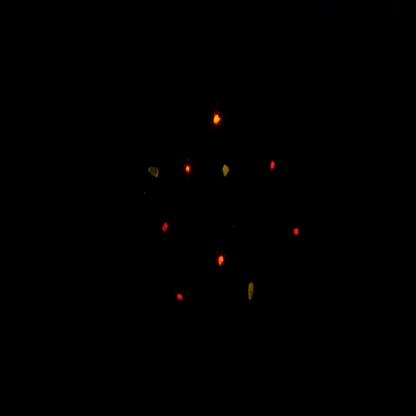PET: (282, 201, 314, 264), (171, 285, 188, 314), (268, 151, 280, 180), (162, 215, 171, 241)
PP: (148, 156, 165, 191), (246, 274, 257, 311), (221, 157, 234, 187)
PVC: (216, 244, 230, 280), (181, 157, 198, 184), (212, 103, 226, 135)
